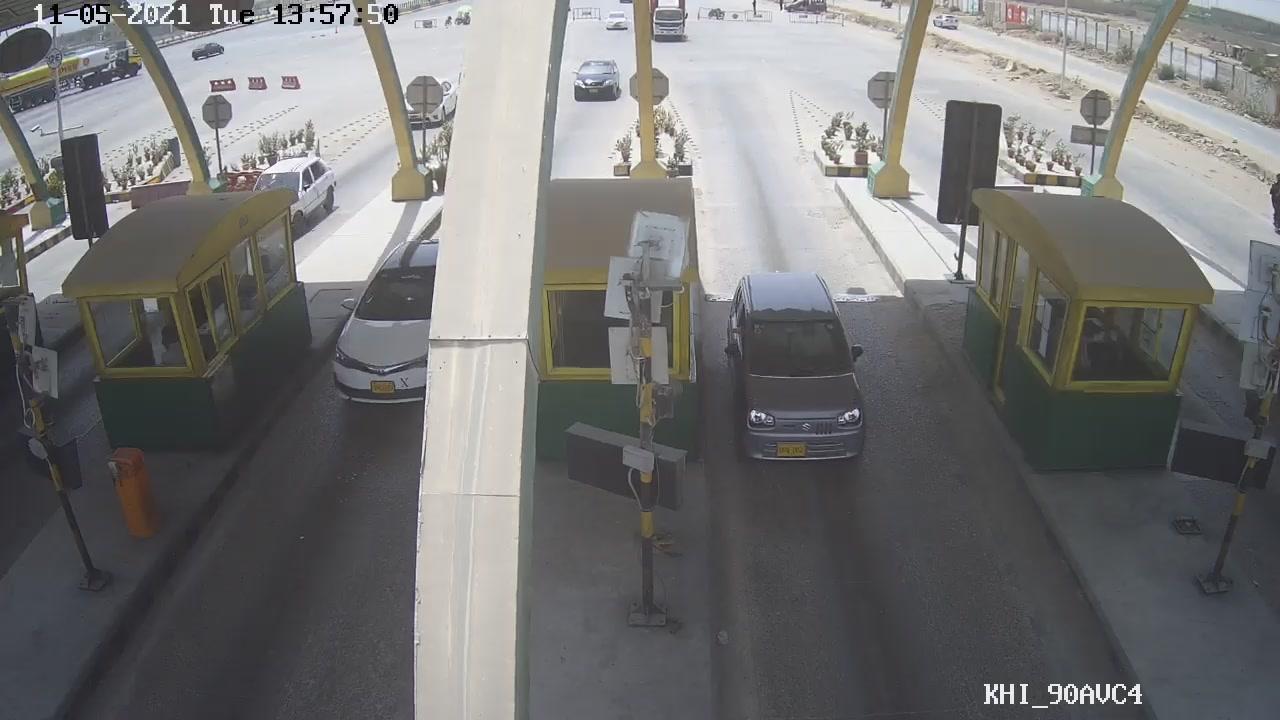F1: (715, 265, 879, 471)
